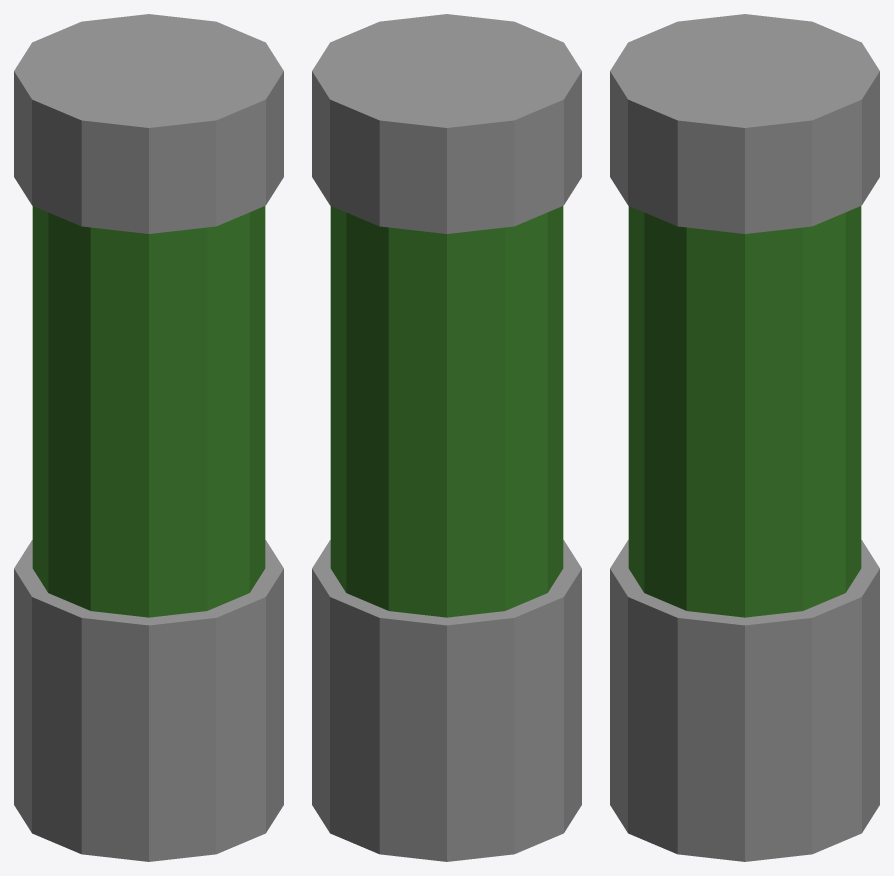
The model's file is pod.fbx.
The picture shows the model from 3 angles, left to right: view 1: azimuth 30°, elevation 25°; view 2: azimuth 150°, elevation 25°; view 3: azimuth 270°, elevation 25°; orthographic projection.
Parts seen in each view (by area): view 1: Pod; view 2: Pod; view 3: Pod.
Part boxes in pixels (x1,y1,x2,y2): Pod: [14, 14, 283, 861]; Pod: [312, 14, 581, 861]; Pod: [610, 14, 879, 861].
Size of the model in its own units: 300 by 900 by 300.
